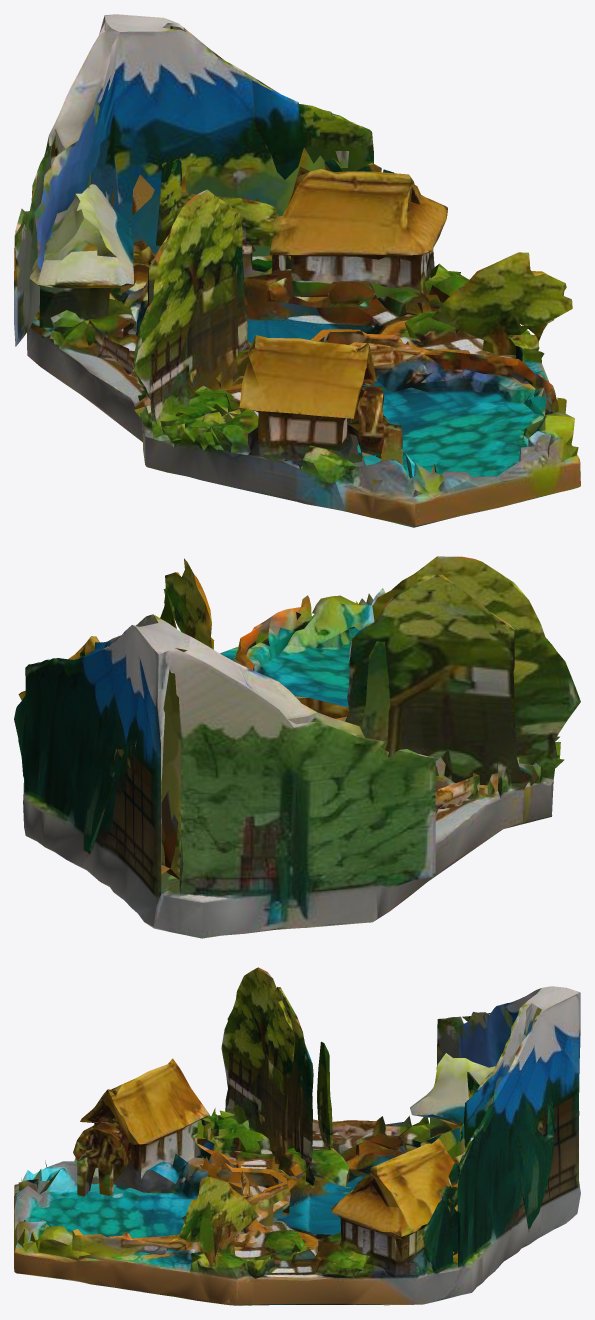
Rendered from oshino-hakkai.glb.
3 views of the same model, one above another, from view 1: azimuth 30°, elevation 25°; view 2: azimuth 150°, elevation 25°; view 3: azimuth 270°, elevation 25° (orthographic). The views are drawn at different scales.
Parts seen in each view (by area): view 1: logan-textured.obj; view 2: logan-textured.obj; view 3: logan-textured.obj.
Boxes of the visible parts, x1,y1,x2,y2 form: logan-textured.obj: [14, 14, 580, 527]; logan-textured.obj: [14, 556, 580, 938]; logan-textured.obj: [14, 967, 580, 1305].
Bounding box in the file's own units: 0.7249 × 0.437 × 1.
1 material, 1 textured.
